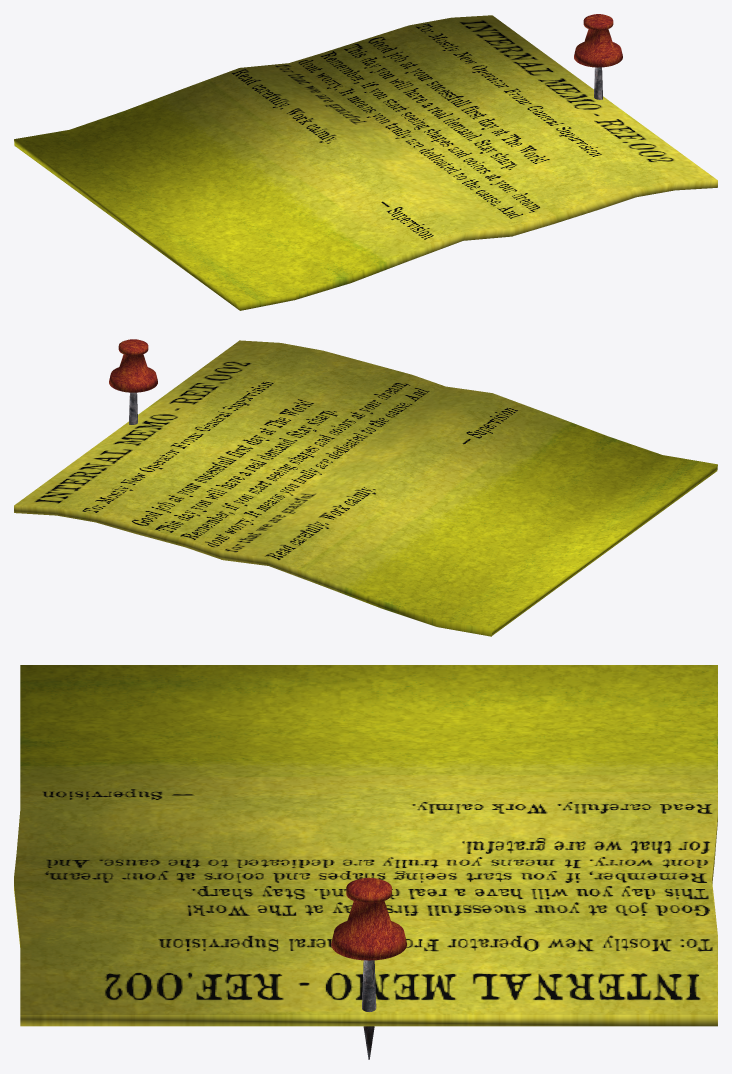
Rendered from secondLetter.glb.
3 renders of one model, top to bottom at view 1: azimuth 30°, elevation 25°; view 2: azimuth 150°, elevation 25°; view 3: azimuth 270°, elevation 25°, orthographic. The views are drawn at different scales.
Parts seen in each view (by area): view 1: Plane.004; view 2: Plane.004; view 3: Plane.004.
Part boxes in pixels (x1,y1,x2,y2): Plane.004: (14,14,717,310); Plane.004: (14,339,717,636); Plane.004: (14,665,717,1059).
Bounding box in the file's own units: 0.3925 × 0.0859 × 0.3139.
3 materials, 3 textured.
